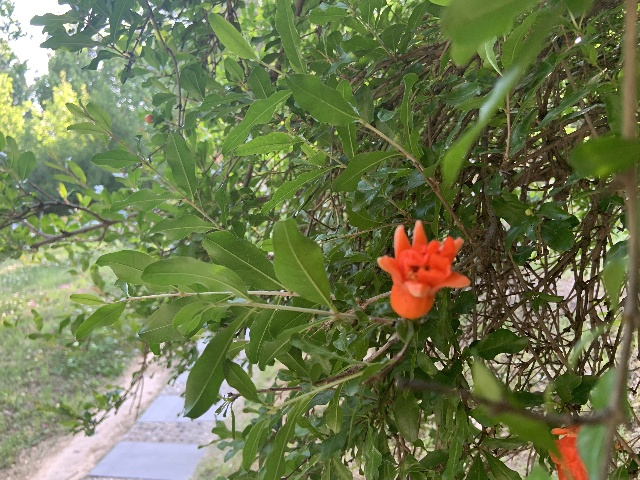flower: (377, 221, 470, 319), (548, 423, 591, 480)
